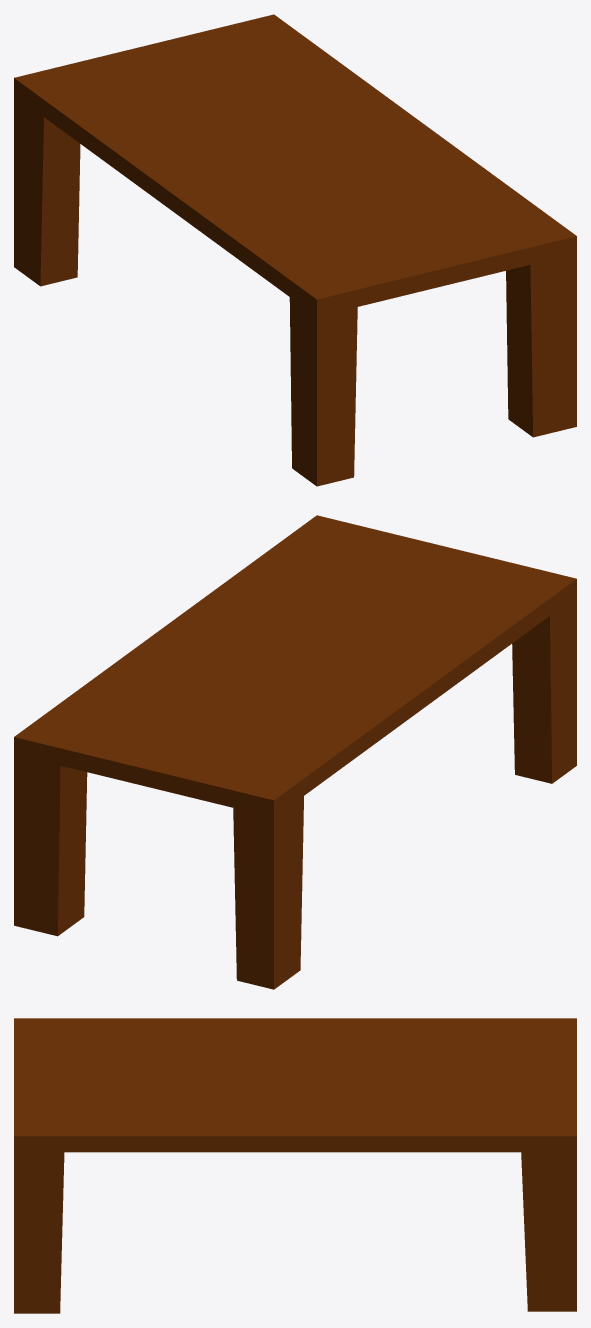
File: tisch.dae
3 views of the same model, one above another, from view 1: azimuth 30°, elevation 25°; view 2: azimuth 150°, elevation 25°; view 3: azimuth 270°, elevation 25° (orthographic). The views are drawn at different scales.
Parts seen in each view (by area): view 1: Cube; view 2: Cube; view 3: Cube.
Part boxes in pixels (<box>): Cube: <box>14,14,576,486</box>; Cube: <box>14,515,576,989</box>; Cube: <box>14,1018,576,1313</box>.
Bounding box in the file's own units: 1.3 × 2.62 × 0.9103.
